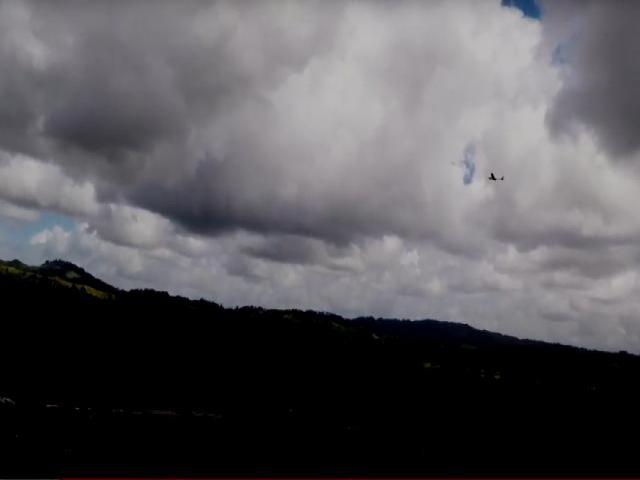iha: (486, 170, 504, 186)
